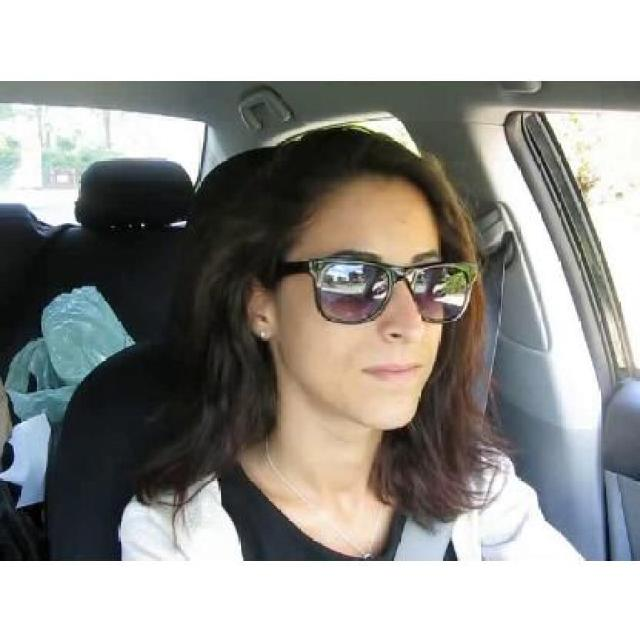attentif: (242, 127, 481, 430)
